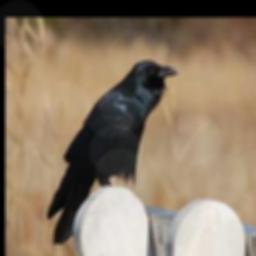Crow: (46, 60, 179, 246)
